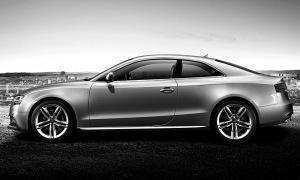car: (12, 58, 294, 149)
